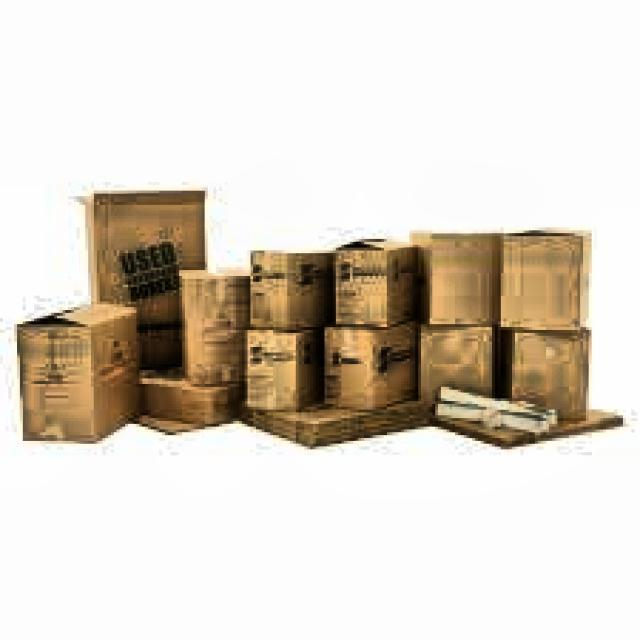cardboard: (14, 188, 623, 450)
